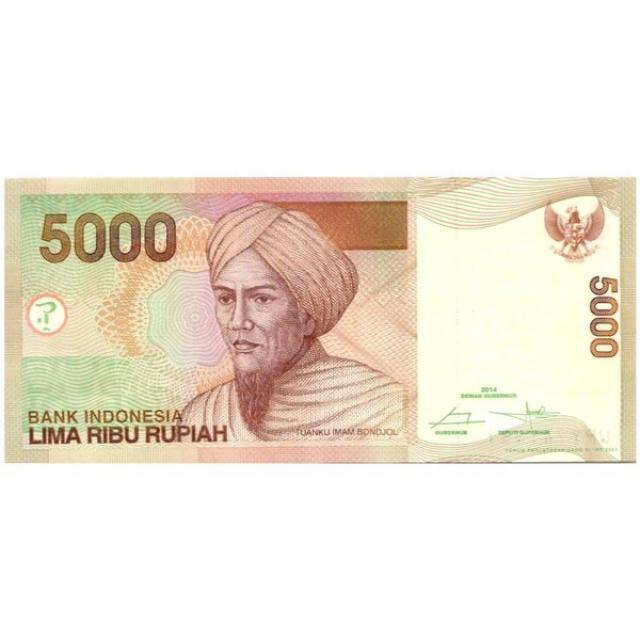lima ribu rupiah: (0, 167, 640, 473)
